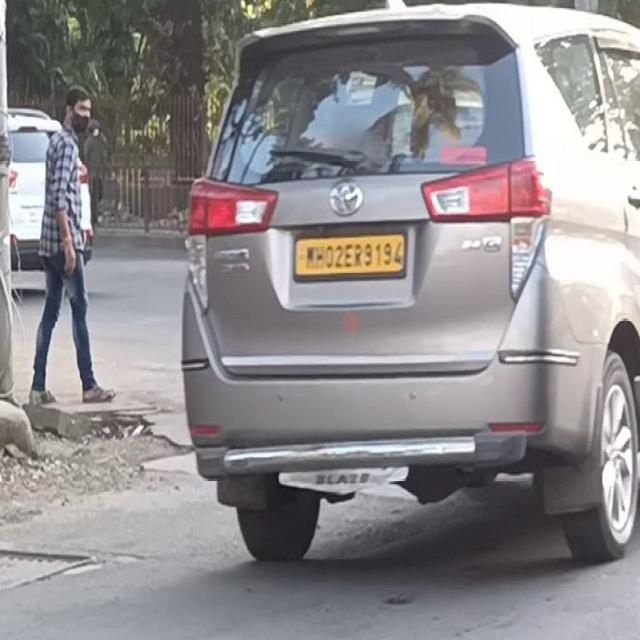Plate: (295, 232, 405, 273)
